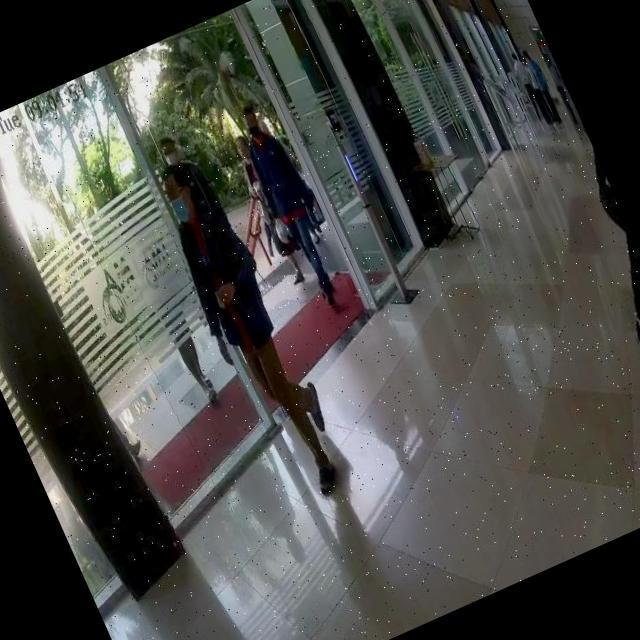person: (143, 151, 359, 515), (228, 99, 356, 314)
